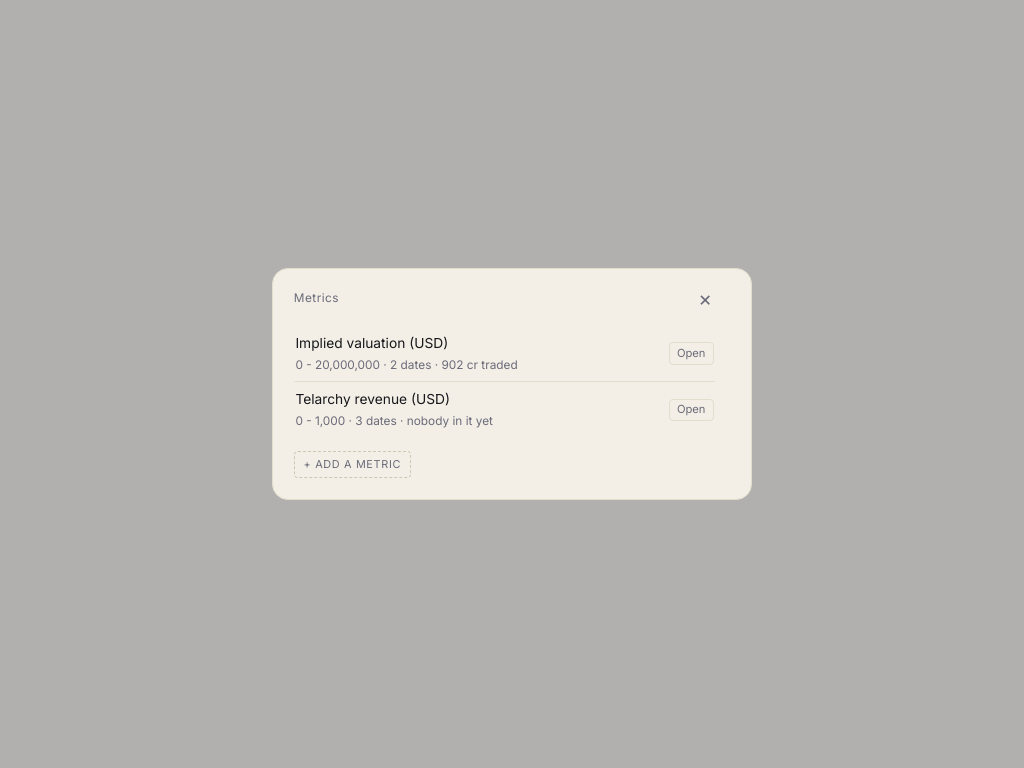
the date rows › Save names the one change: a proposal number
Expected: the text "Implied valuation (USD)" is shown, [295,335,448,351]
Step 1. Click the button "Open" next to "0 - 20,000,000 · 2 dates · 902 cr traded" → {"x": 691, "y": 354}, box [669,342,714,365]
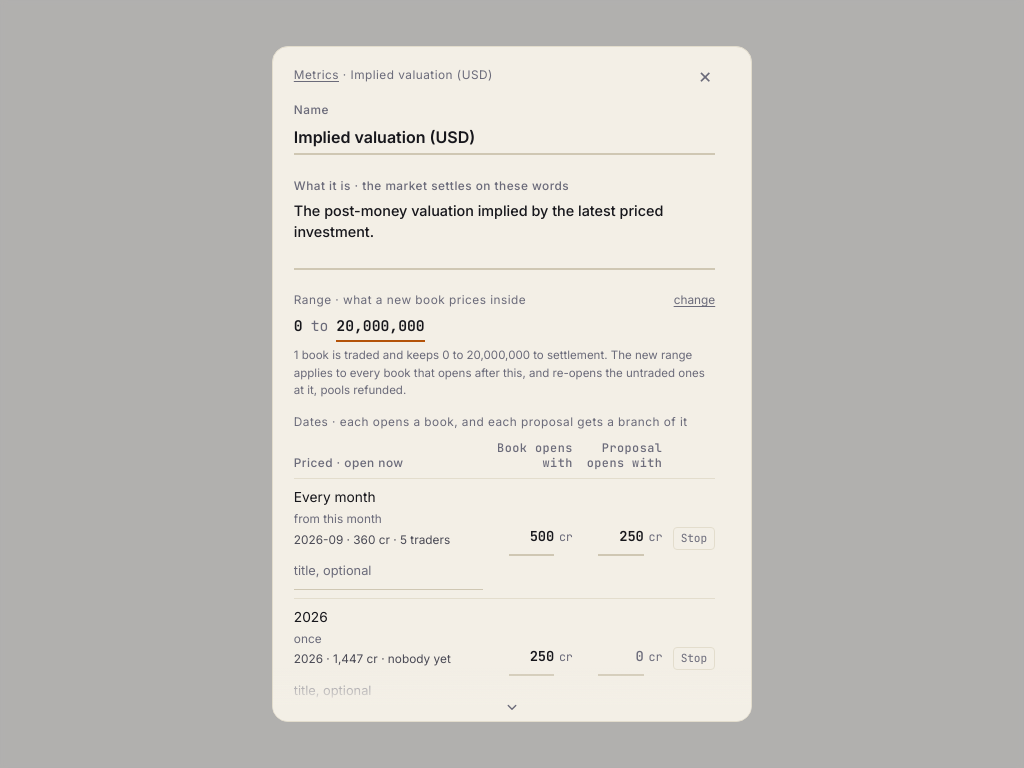
Expected: the table with class "metrics-dates-table" is shown, [294,441,715,718]
Step 2. Type "100" into the field named "Proposal opens with, 2026" → {"x": 621, "y": 658}, box [598,640,644,676]
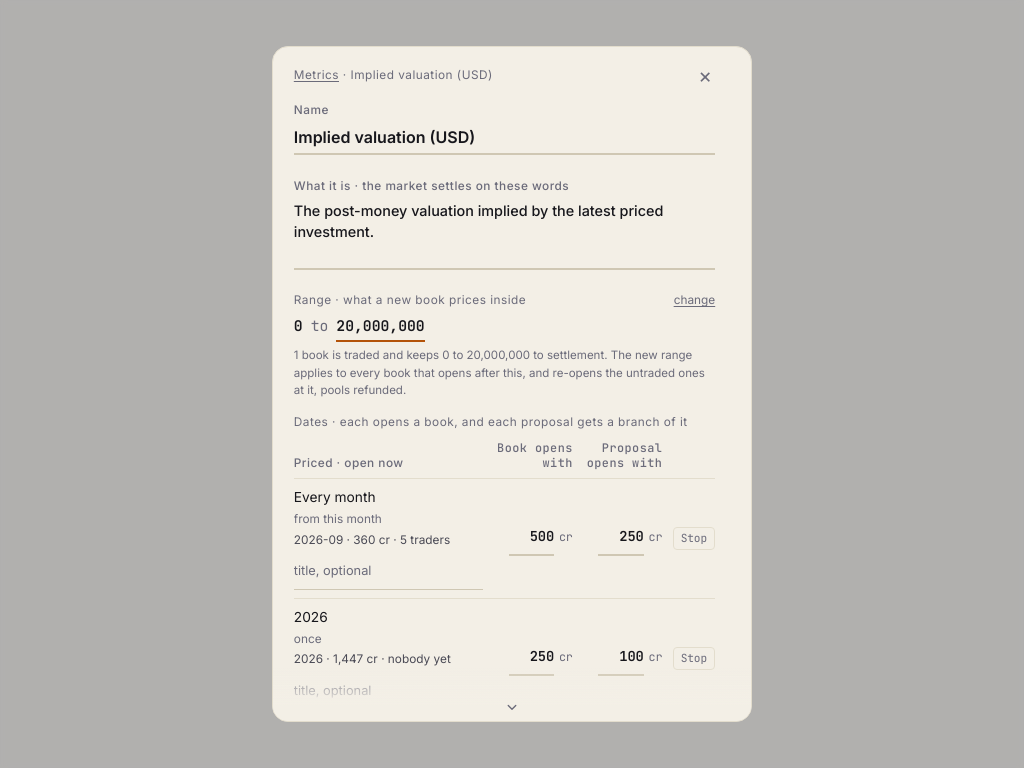
Step 3. Replace the text in the field named "Proposal opens with, 2026" with "0" → {"x": 621, "y": 658}, box [598,640,644,676]
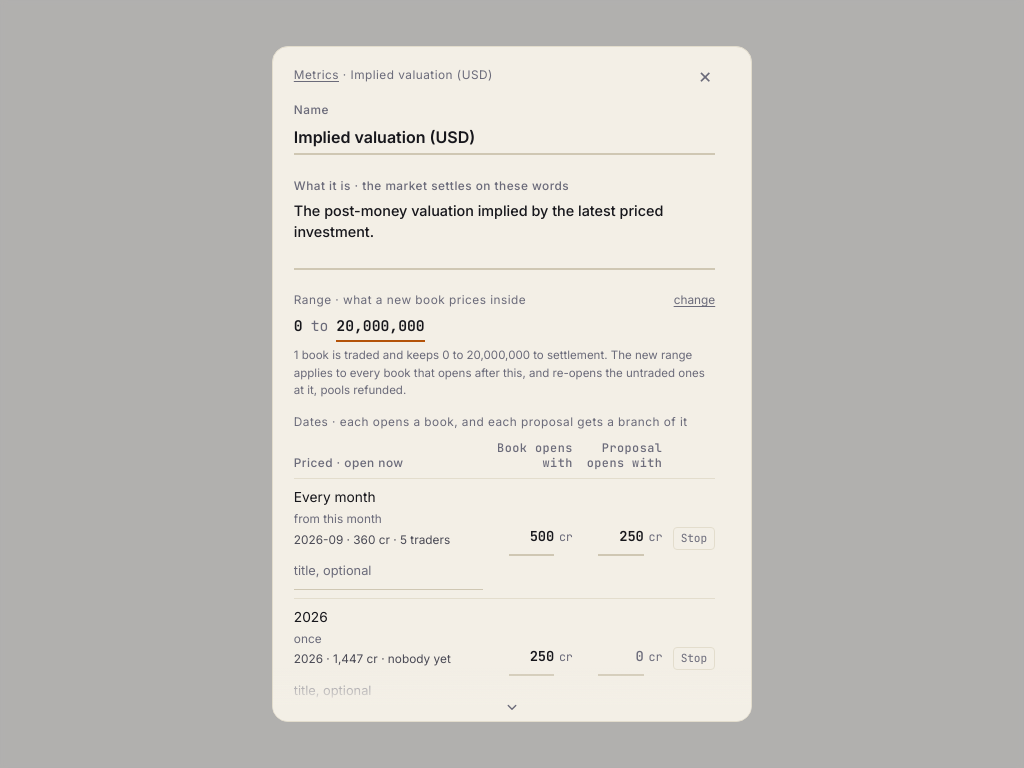
Step 4. Replace the text in the field named "Proposal opens with, Every month" with "300" → {"x": 621, "y": 538}, box [598,520,644,556]
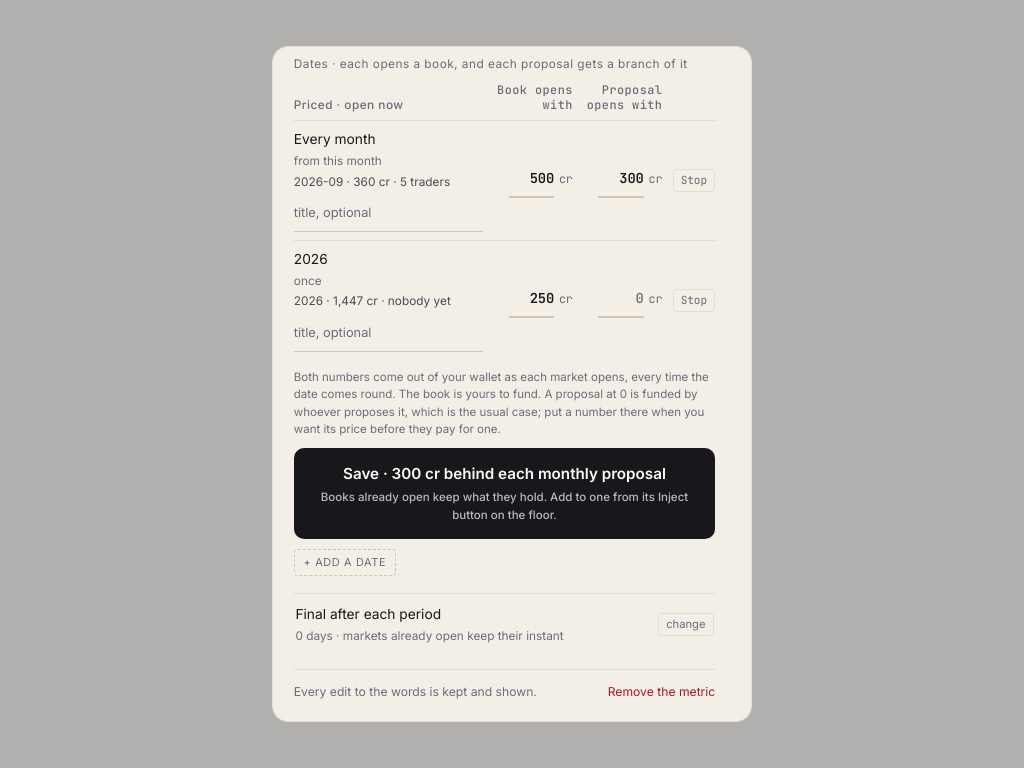
Expected: the button "Save ·" shows "Save · 300 cr behind each monthly proposal", [294,448,715,539]
